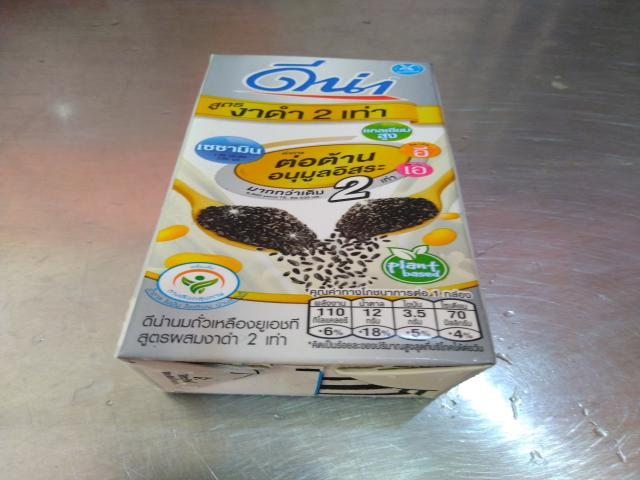drink_box: (114, 41, 522, 417)
